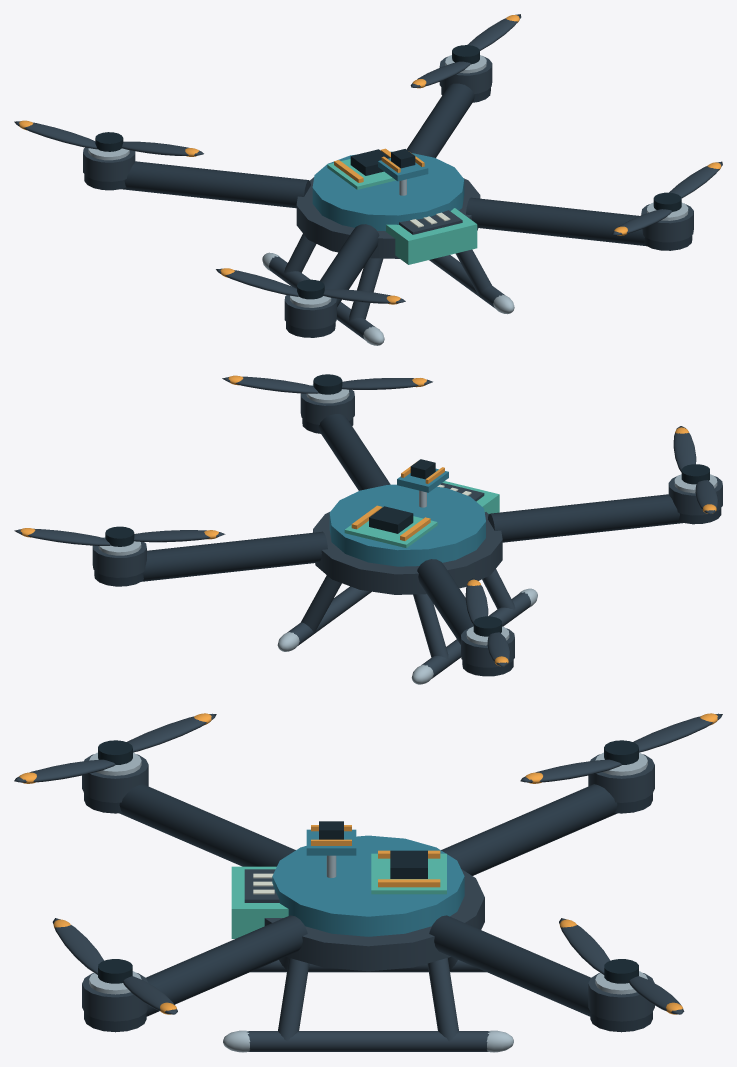
Rendered from class-quad.glb.
3 views of the same model, one above another, from view 1: azimuth 30°, elevation 25°; view 2: azimuth 150°, elevation 25°; view 3: azimuth 270°, elevation 25° (orthographic). The views are drawn at different scales.
Visible parts, largest first — view 1: part-frame-1, part-landing-gear-13, part-battery-10, part-propeller-3, part-propeller-7, part-propeller-9, part-propeller-5, part-flight-controller-11, part-motor-6, part-motor-2, part-motor-8, part-motor-4 (+1 smaller); view 2: part-frame-1, part-landing-gear-13, part-propeller-5, part-propeller-9, part-flight-controller-11, part-propeller-7, part-propeller-3, part-motor-4, part-motor-8, part-motor-2, part-motor-6, part-gnss-12 (+1 smaller); view 3: part-frame-1, part-landing-gear-13, part-flight-controller-11, part-propeller-3, part-propeller-7, part-battery-10, part-propeller-9, part-propeller-5, part-motor-8, part-motor-4, part-motor-6, part-motor-2 (+1 smaller).
Part boxes in pixels (x1,y1,x2,y2): part-frame-1: [84, 83, 692, 337]; part-landing-gear-13: [262, 234, 514, 345]; part-battery-10: [385, 208, 477, 264]; part-propeller-3: [14, 120, 203, 156]; part-propeller-7: [216, 268, 405, 304]; part-propeller-9: [612, 161, 722, 235]; part-propeller-5: [410, 14, 521, 88]; part-flight-controller-11: [327, 148, 395, 189]; part-motor-6: [284, 295, 336, 329]; part-motor-2: [83, 147, 135, 181]; part-motor-8: [641, 202, 693, 242]; part-motor-4: [439, 55, 492, 93]; part-frame-1: [94, 414, 721, 676]; part-landing-gear-13: [277, 569, 537, 684]; part-propeller-5: [14, 526, 225, 546]; part-propeller-9: [222, 374, 432, 394]; part-flight-controller-11: [344, 505, 437, 548]; part-propeller-7: [673, 426, 718, 514]; part-propeller-3: [465, 578, 510, 666]; part-motor-4: [92, 537, 146, 577]; part-motor-8: [300, 384, 354, 424]; part-motor-2: [461, 626, 514, 667]; part-motor-6: [668, 474, 722, 515]; part-gnss-12: [397, 459, 448, 492]; part-frame-1: [84, 784, 652, 1032]; part-landing-gear-13: [223, 957, 513, 1052]; part-flight-controller-11: [371, 850, 446, 894]; part-propeller-3: [520, 713, 722, 783]; part-propeller-7: [14, 713, 216, 783]; part-battery-10: [231, 866, 288, 938]; part-propeller-9: [52, 918, 177, 1014]; part-propeller-5: [559, 918, 684, 1014]; part-motor-8: [82, 971, 148, 1021]; part-motor-4: [588, 971, 654, 1021]; part-motor-6: [82, 752, 148, 802]; part-motor-2: [588, 752, 654, 802].
Size of the model in its own units: 3.85 by 1.11 by 3.84.
